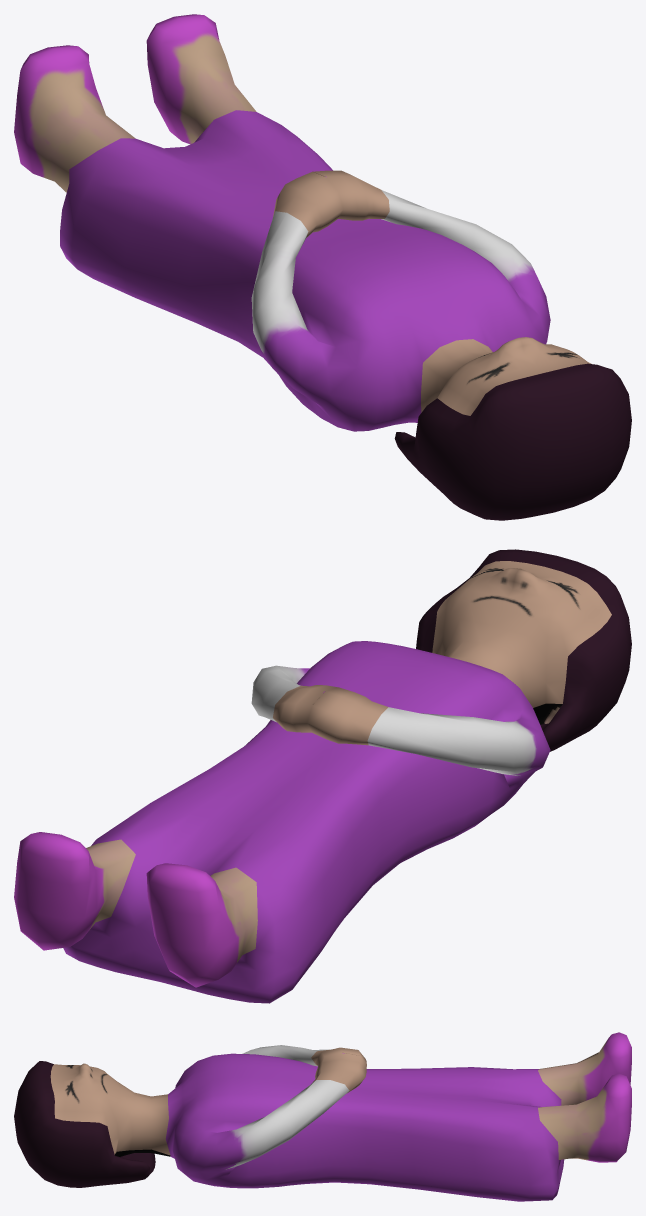
The model's file is coffin_princesa.obj.
The picture shows the model from 3 angles, top to bottom: view 1: azimuth 30°, elevation 25°; view 2: azimuth 150°, elevation 25°; view 3: azimuth 270°, elevation 25°; orthographic projection. The views are drawn at different scales.
Visible parts, largest first — view 1: ViejaMuerta_Cube.001; view 2: ViejaMuerta_Cube.001; view 3: ViejaMuerta_Cube.001.
Part boxes in pixels (bbox=[...]): ViejaMuerta_Cube.001: bbox=[14, 14, 631, 520]; ViejaMuerta_Cube.001: bbox=[14, 549, 631, 1003]; ViejaMuerta_Cube.001: bbox=[14, 1032, 631, 1201].
Size of the model in its own units: 2.6 by 1.7 by 7.69.
